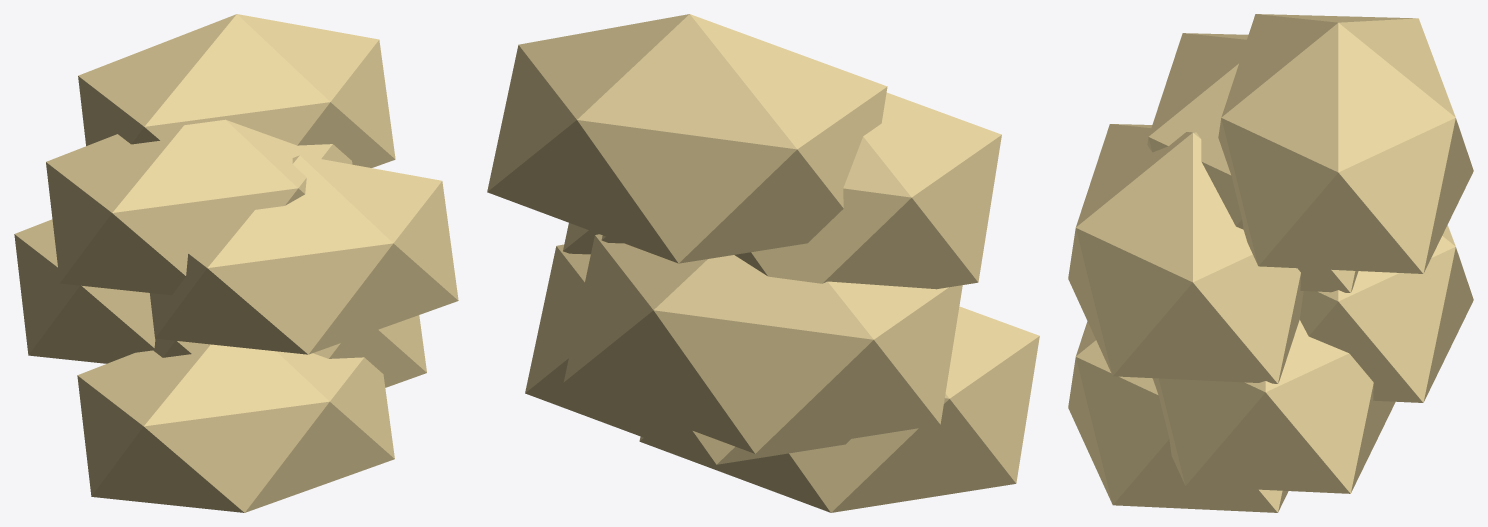
Rendered from item_064_lentil_seed_l.glb.
3 renders of one model, left to right at view 1: azimuth 30°, elevation 25°; view 2: azimuth 150°, elevation 25°; view 3: azimuth 270°, elevation 25°, orthographic. The views are drawn at different scales.
Visible parts, largest first — view 1: item_064_lentil_seed_l; view 2: item_064_lentil_seed_l; view 3: item_064_lentil_seed_l.
Boxes of the visible parts, x1,y1,x2,y2 form: item_064_lentil_seed_l: (14, 14, 458, 512); item_064_lentil_seed_l: (487, 14, 1039, 512); item_064_lentil_seed_l: (1068, 14, 1473, 512).
Bounding box in the file's own units: 0.386 × 0.449 × 0.3345.
